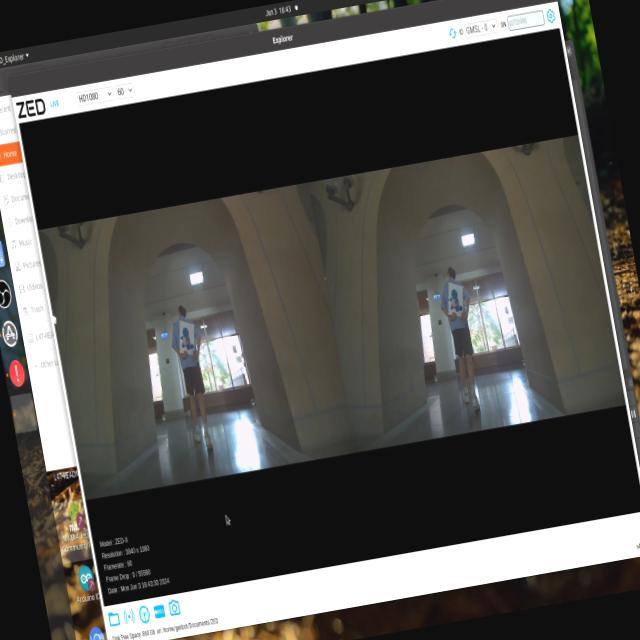blue: (444, 290, 468, 316), (174, 326, 193, 350)
